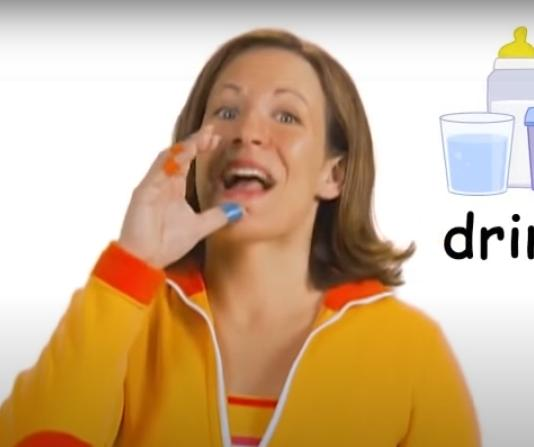drink: (121, 121, 247, 272)
